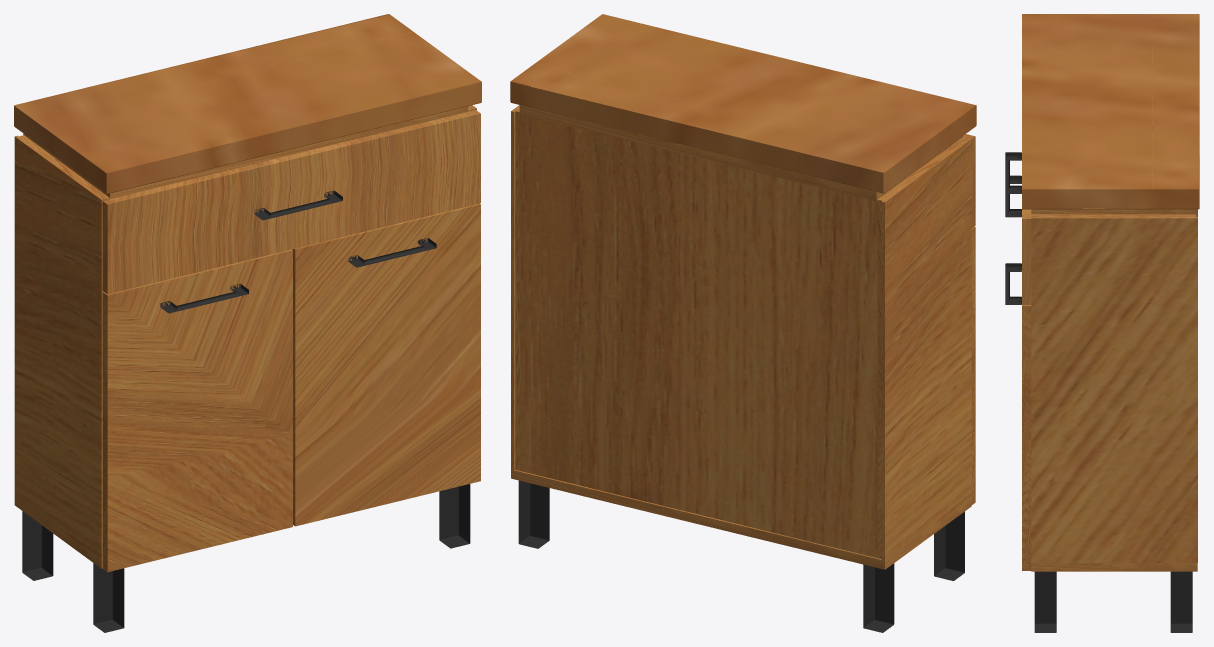
Rendered from BathFurniture.obj.
3 views of the same model, side by side, from view 1: azimuth 30°, elevation 25°; view 2: azimuth 150°, elevation 25°; view 3: azimuth 270°, elevation 25° (orthographic). The views are drawn at different scales.
Visible parts, largest first — view 1: cersanit_S543-010-DSM_komoda_OLIVIA_OLIWIA_2, cersanit_S543-010-DSM_komoda_OLIVIA_OLIWIA_1, cersanit_S543-010-DSM_komoda_OLIVIA_OLIWIA_3; view 2: cersanit_S543-010-DSM_komoda_OLIVIA_OLIWIA_1, cersanit_S543-010-DSM_komoda_OLIVIA_OLIWIA_3, cersanit_S543-010-DSM_komoda_OLIVIA_OLIWIA_2; view 3: cersanit_S543-010-DSM_komoda_OLIVIA_OLIWIA_1, cersanit_S543-010-DSM_komoda_OLIVIA_OLIWIA_3, cersanit_S543-010-DSM_komoda_OLIVIA_OLIWIA_2.
Boxes of the visible parts, bbox=[...] form: cersanit_S543-010-DSM_komoda_OLIVIA_OLIWIA_2: bbox=[102, 110, 480, 572]; cersanit_S543-010-DSM_komoda_OLIVIA_OLIWIA_1: bbox=[14, 14, 481, 568]; cersanit_S543-010-DSM_komoda_OLIVIA_OLIWIA_3: bbox=[22, 190, 470, 632]; cersanit_S543-010-DSM_komoda_OLIVIA_OLIWIA_1: bbox=[510, 14, 976, 569]; cersanit_S543-010-DSM_komoda_OLIVIA_OLIWIA_3: bbox=[518, 480, 964, 632]; cersanit_S543-010-DSM_komoda_OLIVIA_OLIWIA_2: bbox=[963, 134, 975, 504]; cersanit_S543-010-DSM_komoda_OLIVIA_OLIWIA_1: bbox=[1022, 14, 1199, 571]; cersanit_S543-010-DSM_komoda_OLIVIA_OLIWIA_3: bbox=[1005, 152, 1192, 632]; cersanit_S543-010-DSM_komoda_OLIVIA_OLIWIA_2: bbox=[1022, 209, 1031, 570].
Bounding box in the file's own units: 69.98 × 83 × 32.79.
Materials: 2 (1 with a texture image).
